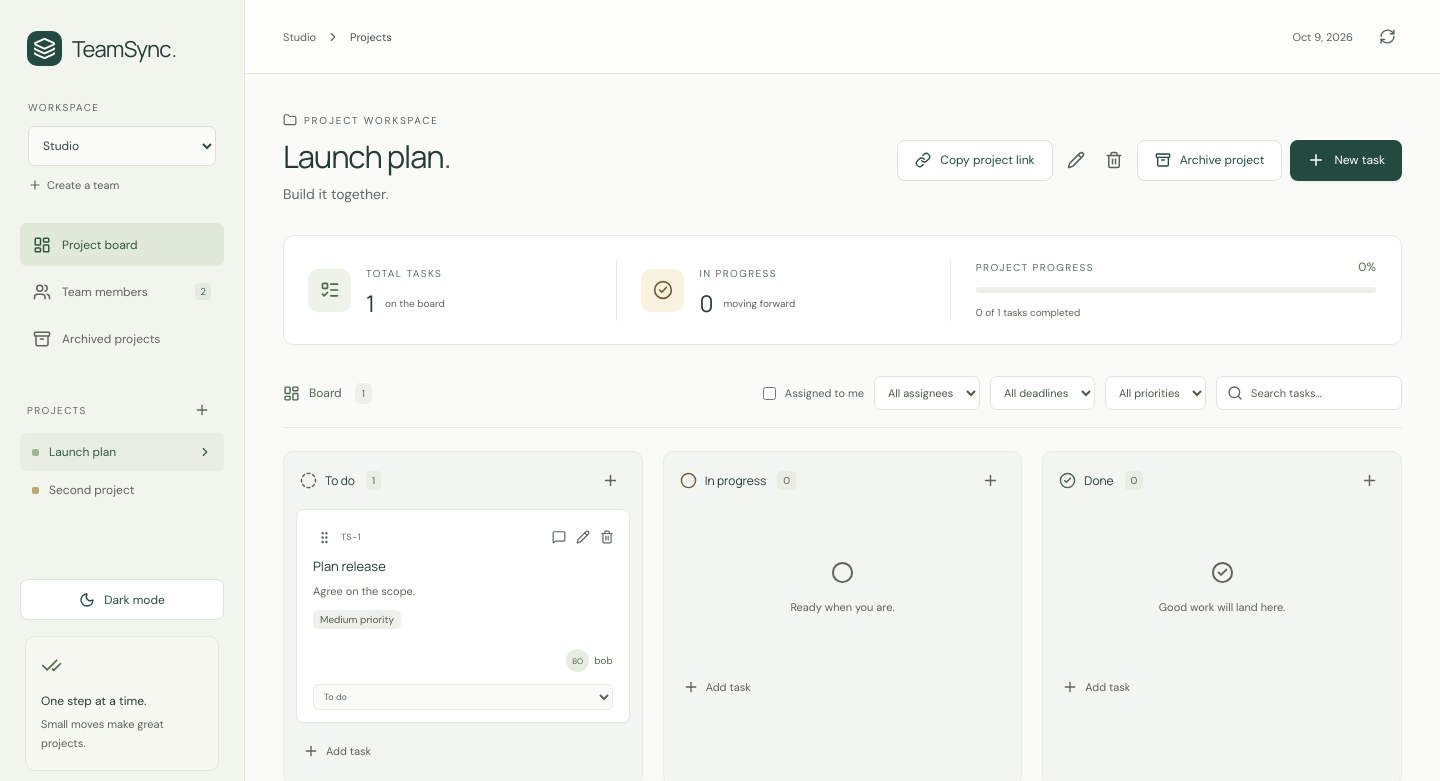
Test case: moves to another project after deleting the currently selected project
Expected: the heading "Launch plan." is shown, [283,136,450,176]
Click the button named "Delete project": (1114, 160) [1099,145,1129,175]
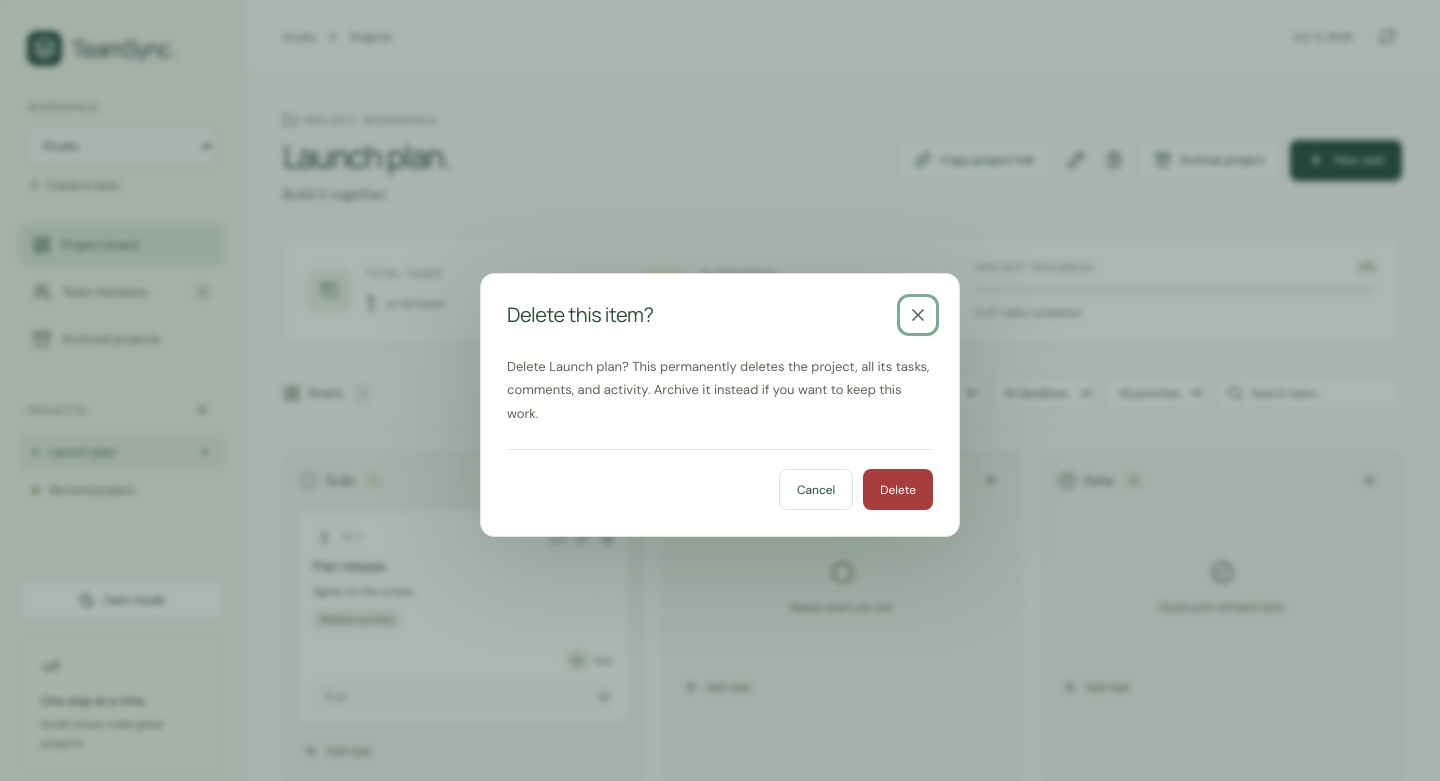
Click the button "Delete": (898, 490) [863,469,933,510]
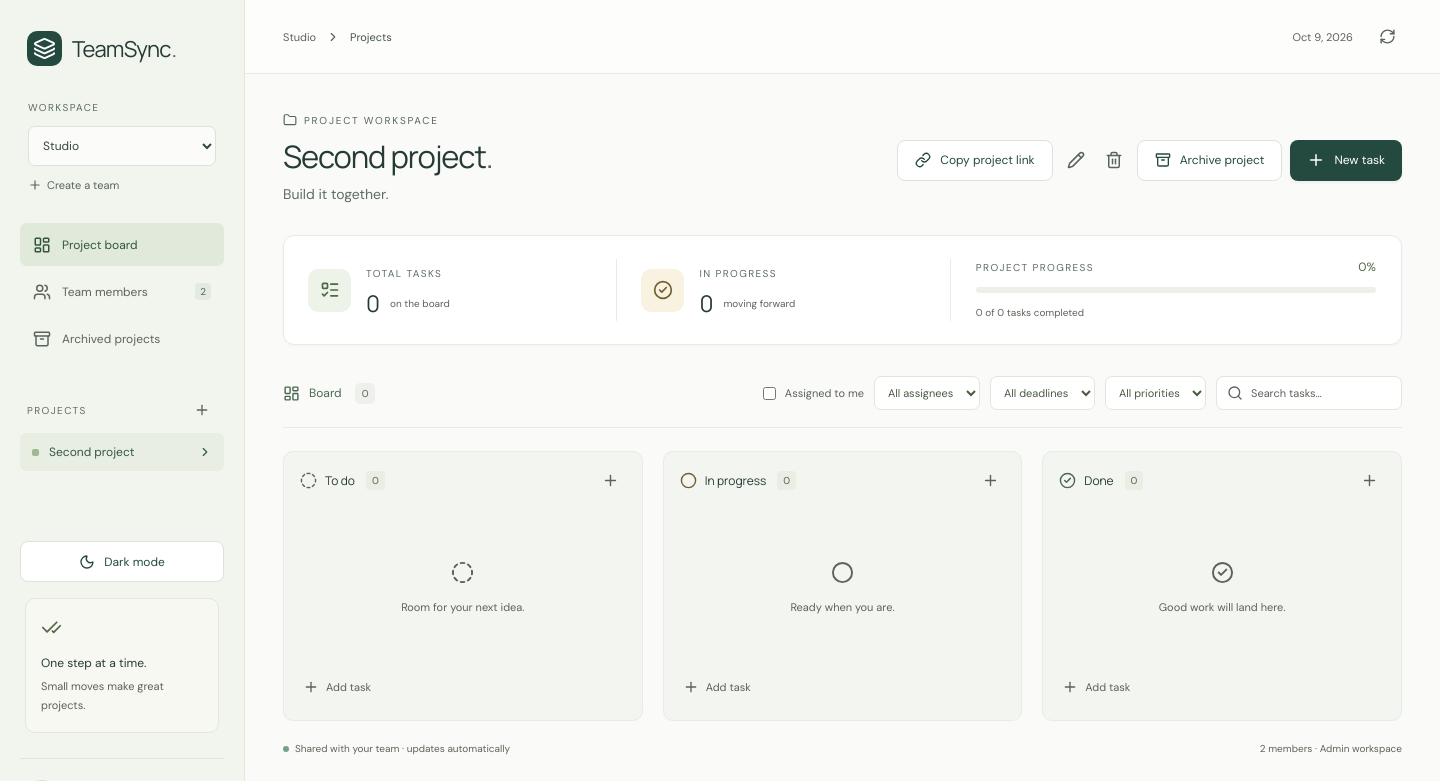
Result: the heading "Second project." is shown at [283,136,492,176]
